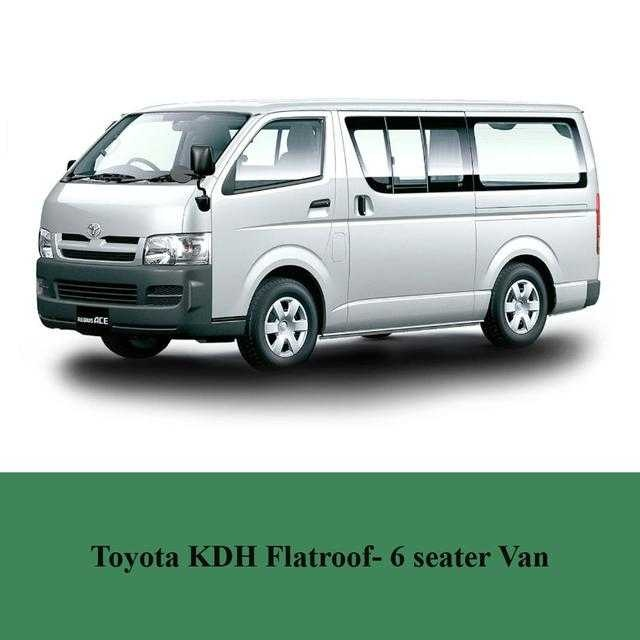van: (35, 97, 599, 373)
